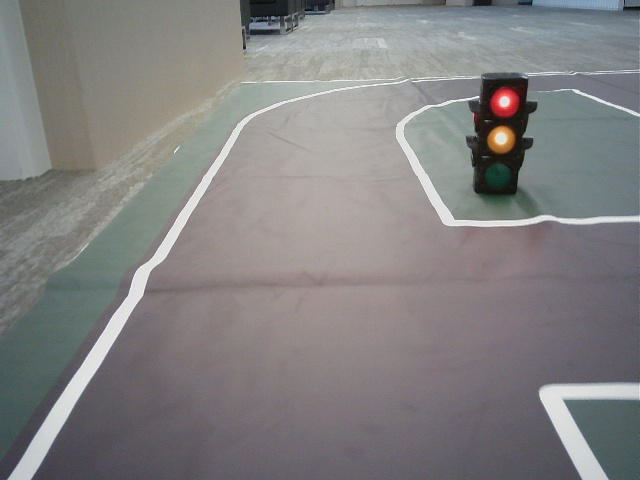red: (479, 76, 517, 193)
